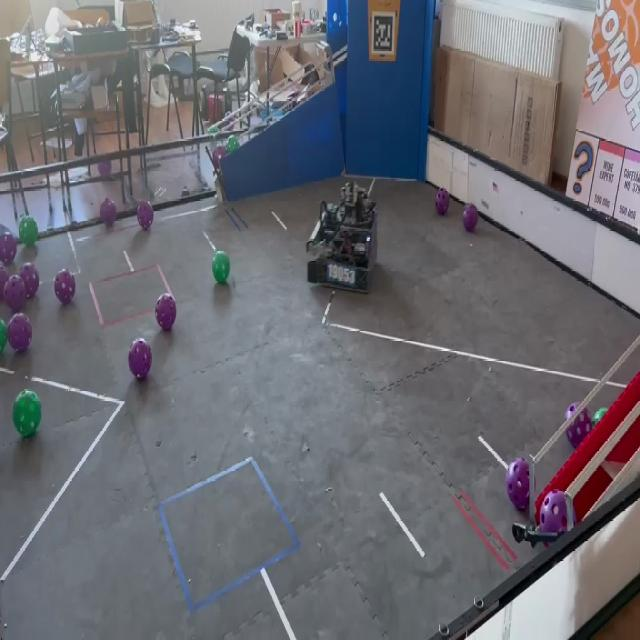artifact_green: (13, 391, 41, 437), (19, 216, 38, 246), (212, 251, 229, 283), (592, 408, 607, 426), (0, 318, 7, 354), (226, 135, 239, 154), (209, 125, 219, 137)
artifact_purple: (540, 489, 568, 533), (506, 458, 529, 511), (565, 403, 592, 448), (129, 338, 151, 380), (8, 314, 31, 352), (4, 275, 26, 313), (155, 294, 176, 331), (54, 269, 75, 305), (19, 263, 39, 298), (0, 232, 16, 266), (100, 198, 117, 226), (137, 201, 153, 230), (212, 144, 227, 172), (463, 204, 478, 232), (435, 188, 449, 215), (0, 265, 9, 299), (98, 160, 111, 176)
